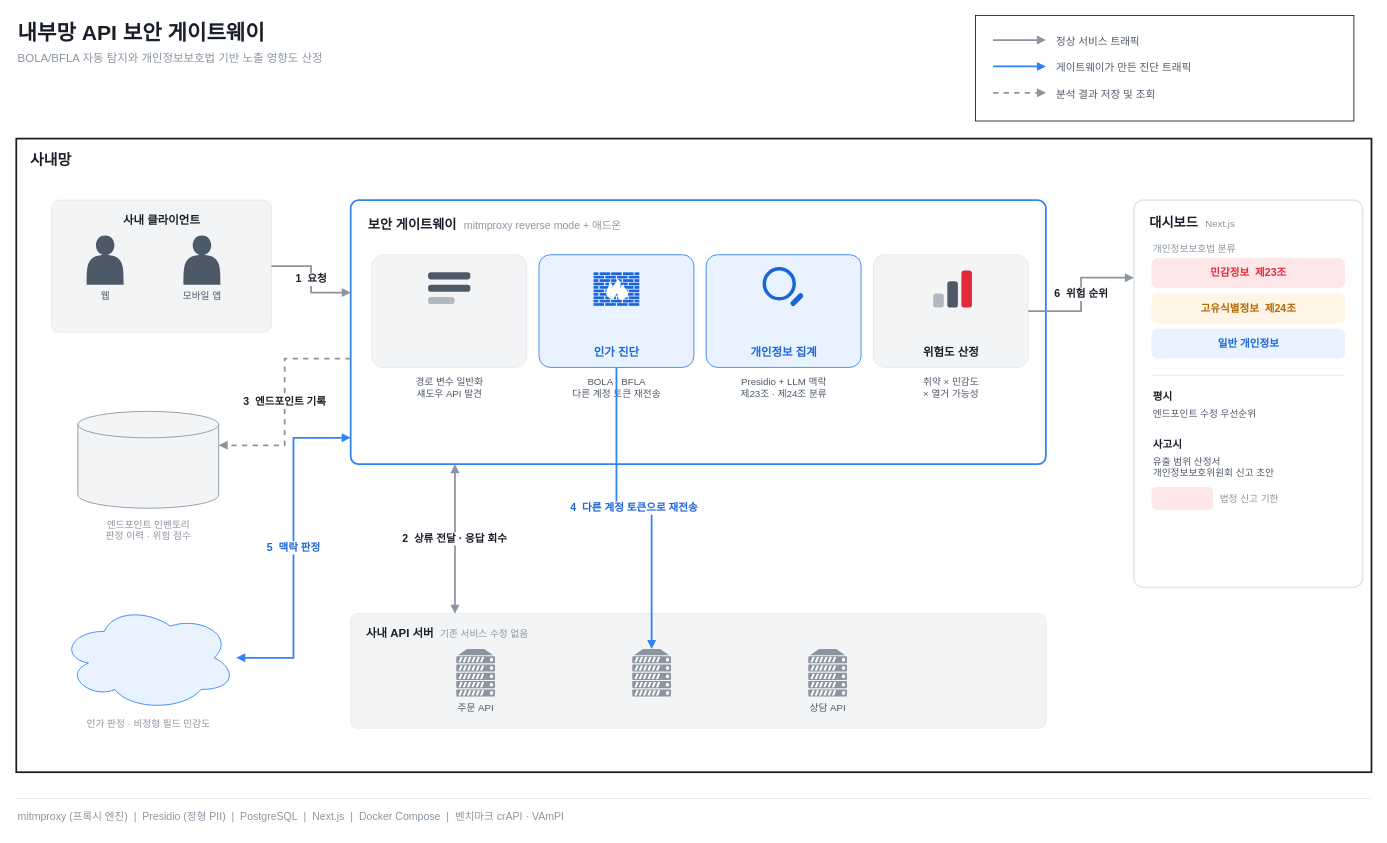
Some shapes in this 1387 by 843 pixel diagram are drawn without their labels. Each missing label, with the centre of its shape:
"72시간" goes at pixel 1182 498.
"LLM API" goes at pixel 147 657.
"결제 API" goes at pixel 651 672.
"인벤토리" goes at pixel 449 310.
"저장소 PostgreSQL" goes at pixel 148 459.
